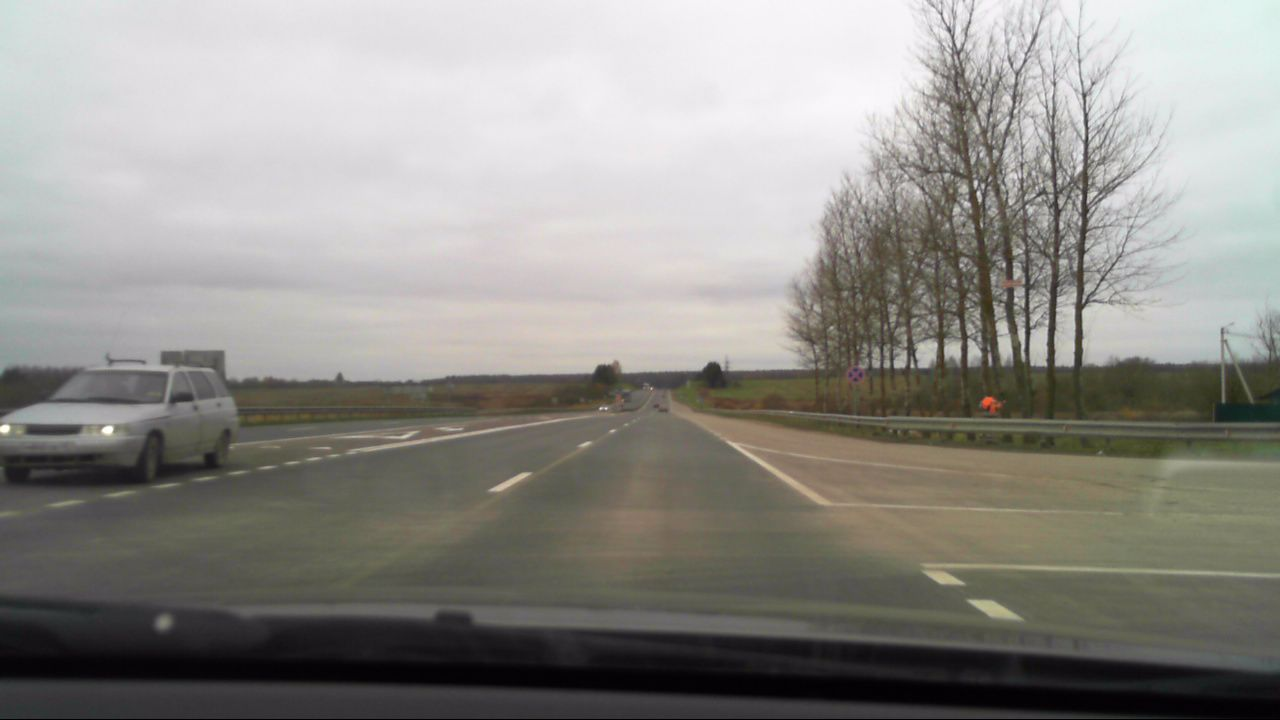No Parking: (846, 364, 866, 383)
